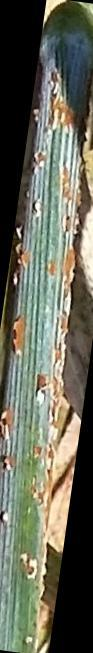Wheat: (0, 98, 86, 597)
